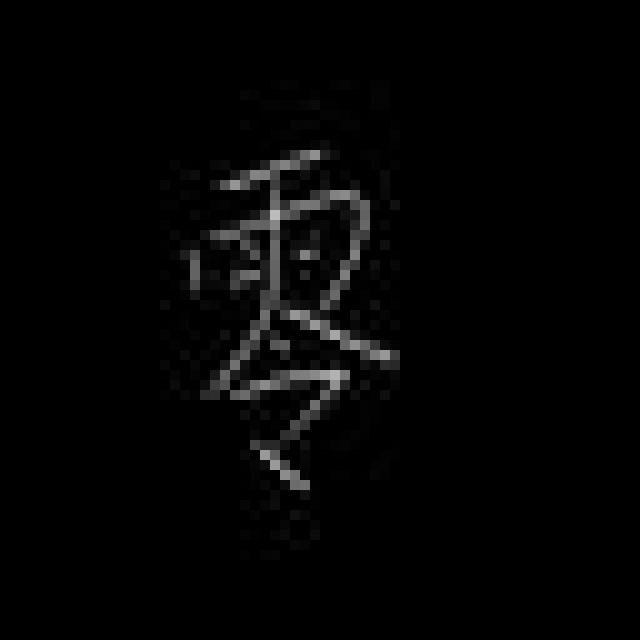0 -zero-: (169, 139, 392, 494)
